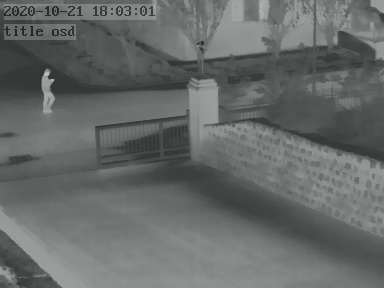person: (40, 67, 56, 112)
